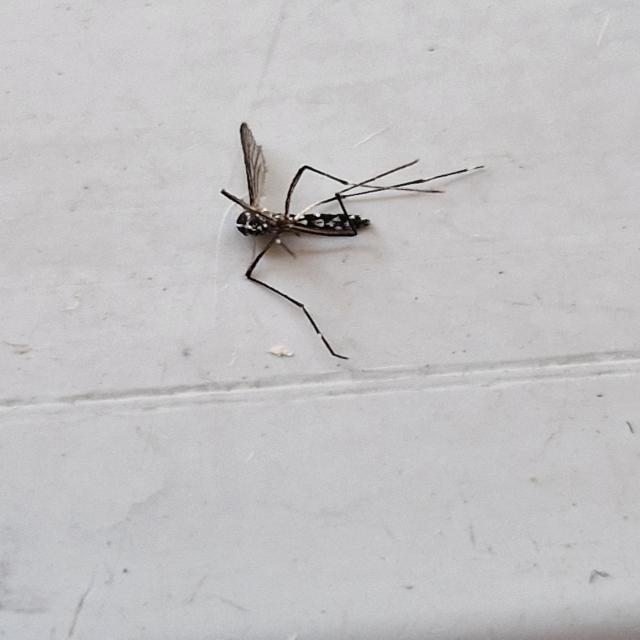albopictus: (192, 112, 471, 364)
